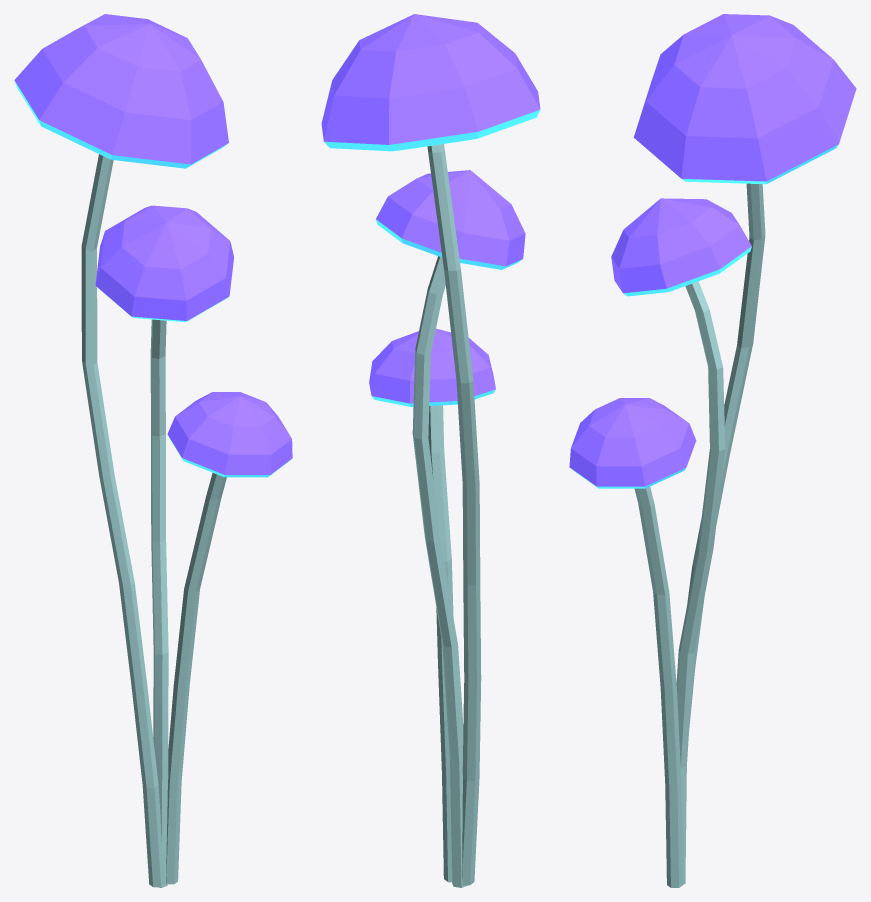
Rendered from scifi_scifi-tree-mushroom-big.fbx.
The picture shows the model from 3 angles, left to right: view 1: azimuth 30°, elevation 25°; view 2: azimuth 150°, elevation 25°; view 3: azimuth 270°, elevation 25°; orthographic projection. The views are drawn at different scales.
Visible parts, largest first — view 1: scifi_scifi_tree_mushroom_big; view 2: scifi_scifi_tree_mushroom_big; view 3: scifi_scifi_tree_mushroom_big.
Part boxes in pixels (x1,y1,x2,y2): scifi_scifi_tree_mushroom_big: (14, 14, 292, 887); scifi_scifi_tree_mushroom_big: (321, 14, 540, 887); scifi_scifi_tree_mushroom_big: (569, 14, 856, 887).
Bounding box in the file's own units: 50.08 × 200 × 60.84.
